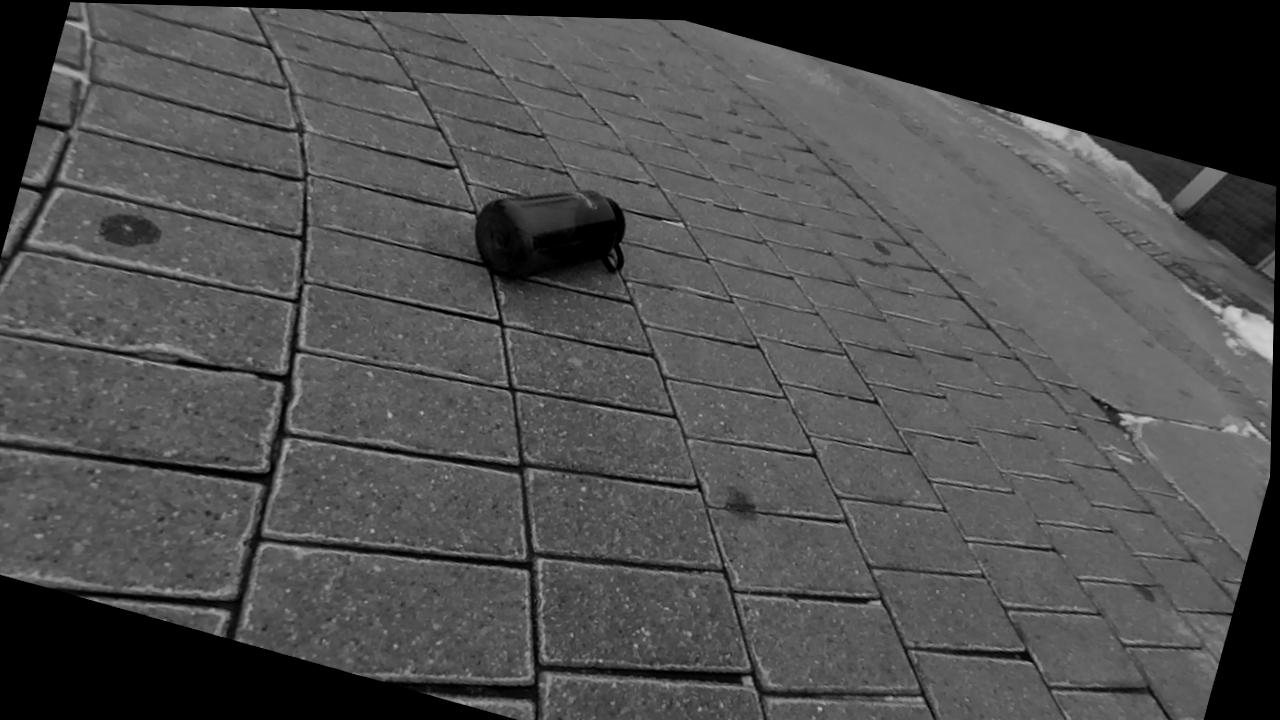bottle: (474, 191, 626, 279)
